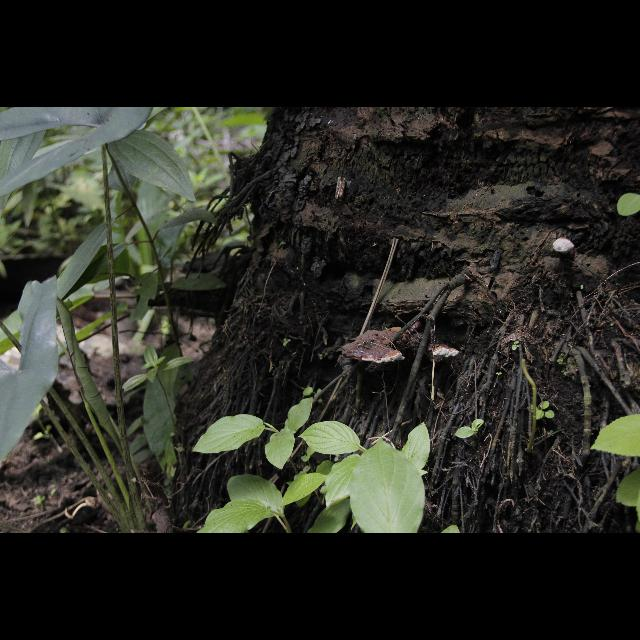ganoderma: (342, 328, 406, 365), (428, 345, 460, 359)
primordium: (554, 239, 576, 256)
